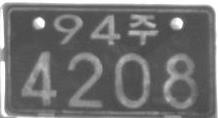0: (114, 51, 151, 109)
2: (66, 51, 103, 108)
4: (20, 50, 56, 106), (90, 14, 121, 45)
8: (162, 52, 198, 110)
9: (53, 13, 83, 44)
주: (129, 12, 159, 46)
